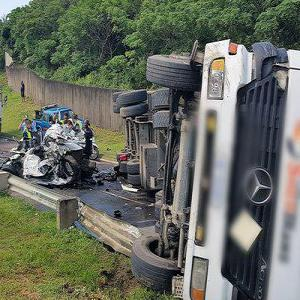serious: (100, 18, 300, 300)
